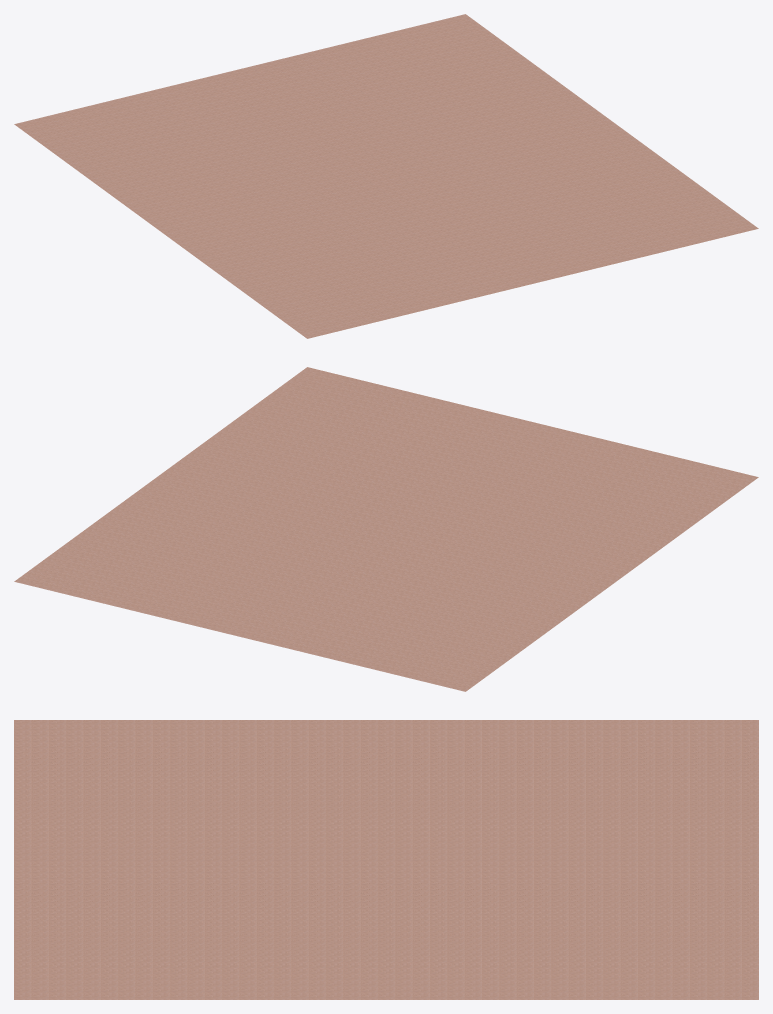
File: indo4.fbx
3 views of the same model, one above another, from view 1: azimuth 30°, elevation 25°; view 2: azimuth 150°, elevation 25°; view 3: azimuth 270°, elevation 25° (orthographic). The views are drawn at different scales.
Parts seen in each view (by area): view 1: Cube.001; view 2: Cube.001; view 3: Cube.001.
Part boxes in pixels (x1,y1,x2,y2): Cube.001: (14, 14, 758, 338); Cube.001: (14, 367, 758, 691); Cube.001: (14, 720, 758, 999).
Bounding box in the file's own units: 20.29 × 5.44e-06 × 22.82.
